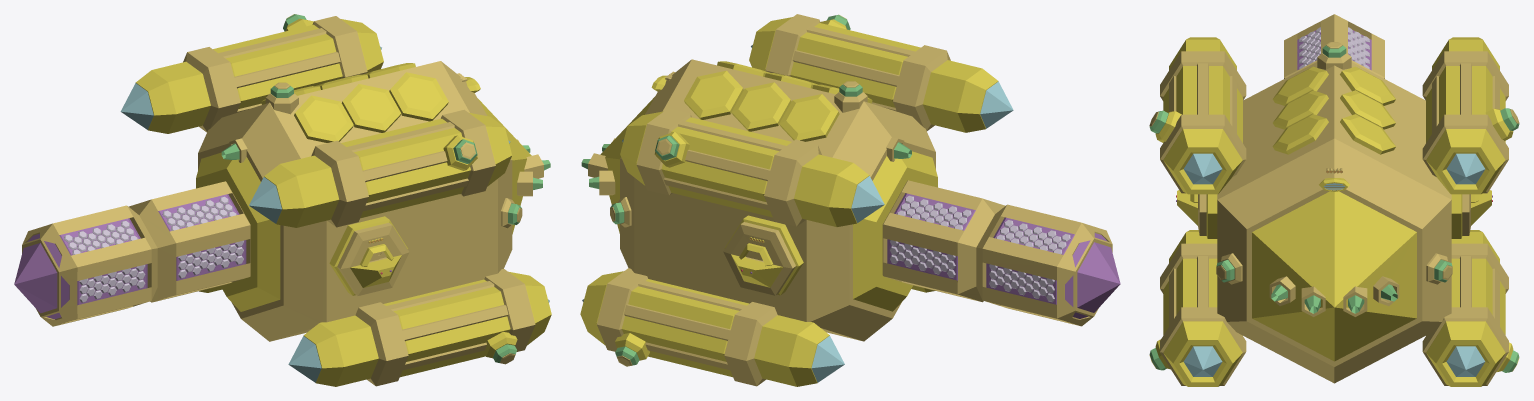
File: vra-bastion.glb
3 views of the same model, side by side, from view 1: azimuth 30°, elevation 25°; view 2: azimuth 150°, elevation 25°; view 3: azimuth 270°, elevation 25° (orthographic). The views are drawn at different scales.
Visible parts, largest first — view 1: Bastion current hull - authored COLOR_0 regions; view 2: Bastion current hull - authored COLOR_0 regions; view 3: Bastion current hull - authored COLOR_0 regions.
Part boxes in pixels (left/top/right/bottom): Bastion current hull - authored COLOR_0 regions: left=14, top=14, right=551, bottom=386; Bastion current hull - authored COLOR_0 regions: left=580, top=14, right=1120, bottom=386; Bastion current hull - authored COLOR_0 regions: left=1149, top=14, right=1519, bottom=386.
Bounding box in the file's own units: 8.02 × 3.7 × 4.79.
